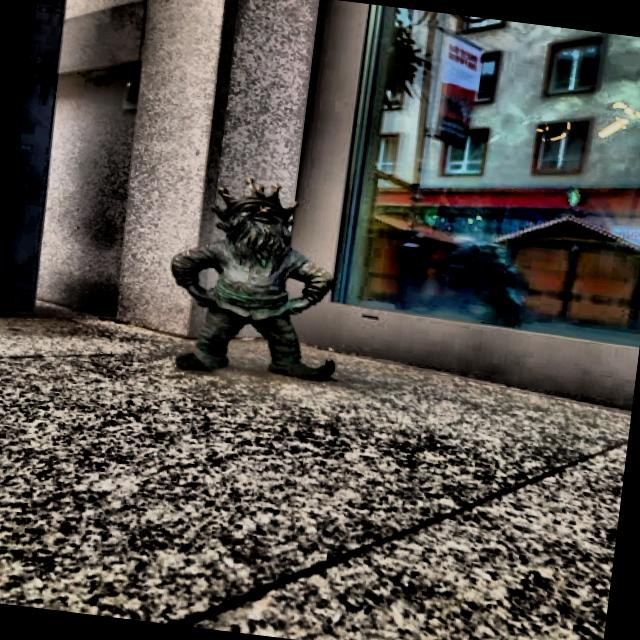Koronus: (170, 177, 334, 382)
